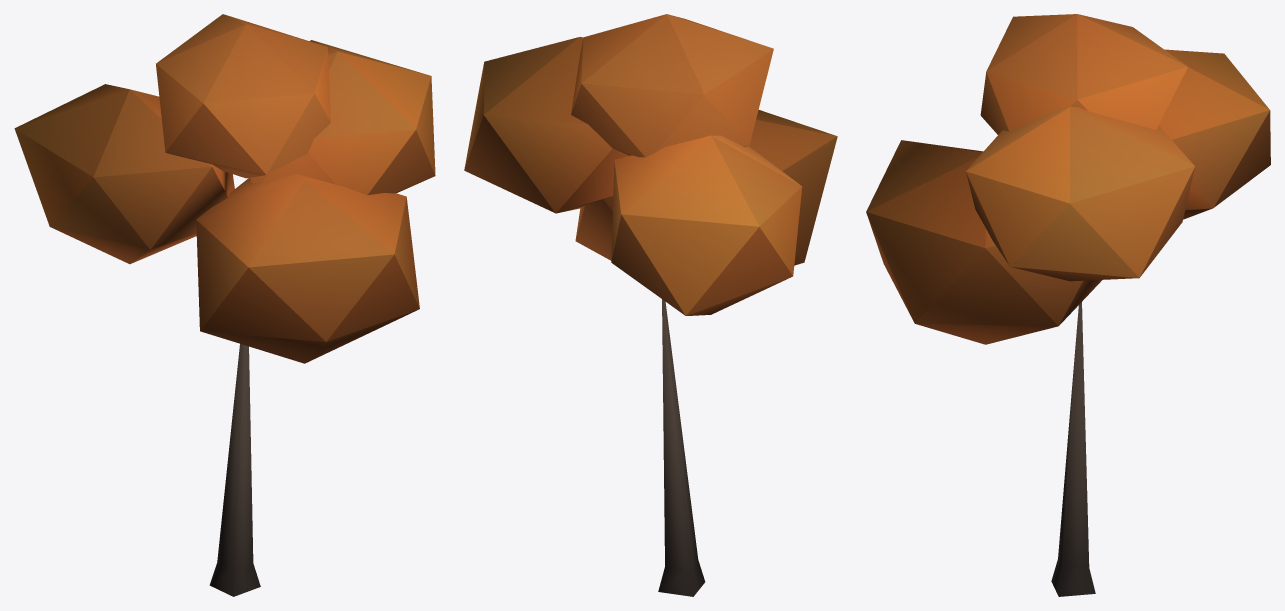
Rendered from maple_orange_lod1.glb.
The picture shows the model from 3 angles, left to right: view 1: azimuth 30°, elevation 25°; view 2: azimuth 150°, elevation 25°; view 3: azimuth 270°, elevation 25°; orthographic projection. The views are drawn at different scales.
Parts seen in each view (by area): view 1: maple_orange_lod1; view 2: maple_orange_lod1; view 3: maple_orange_lod1.
Part boxes in pixels (x1=…): maple_orange_lod1: x1=14, y1=14, x2=435, y2=596; maple_orange_lod1: x1=464, y1=14, x2=837, y2=596; maple_orange_lod1: x1=866, y1=14, x2=1270, y2=596.
Bounding box in the file's own units: 5.36 × 8.33 × 5.27.
